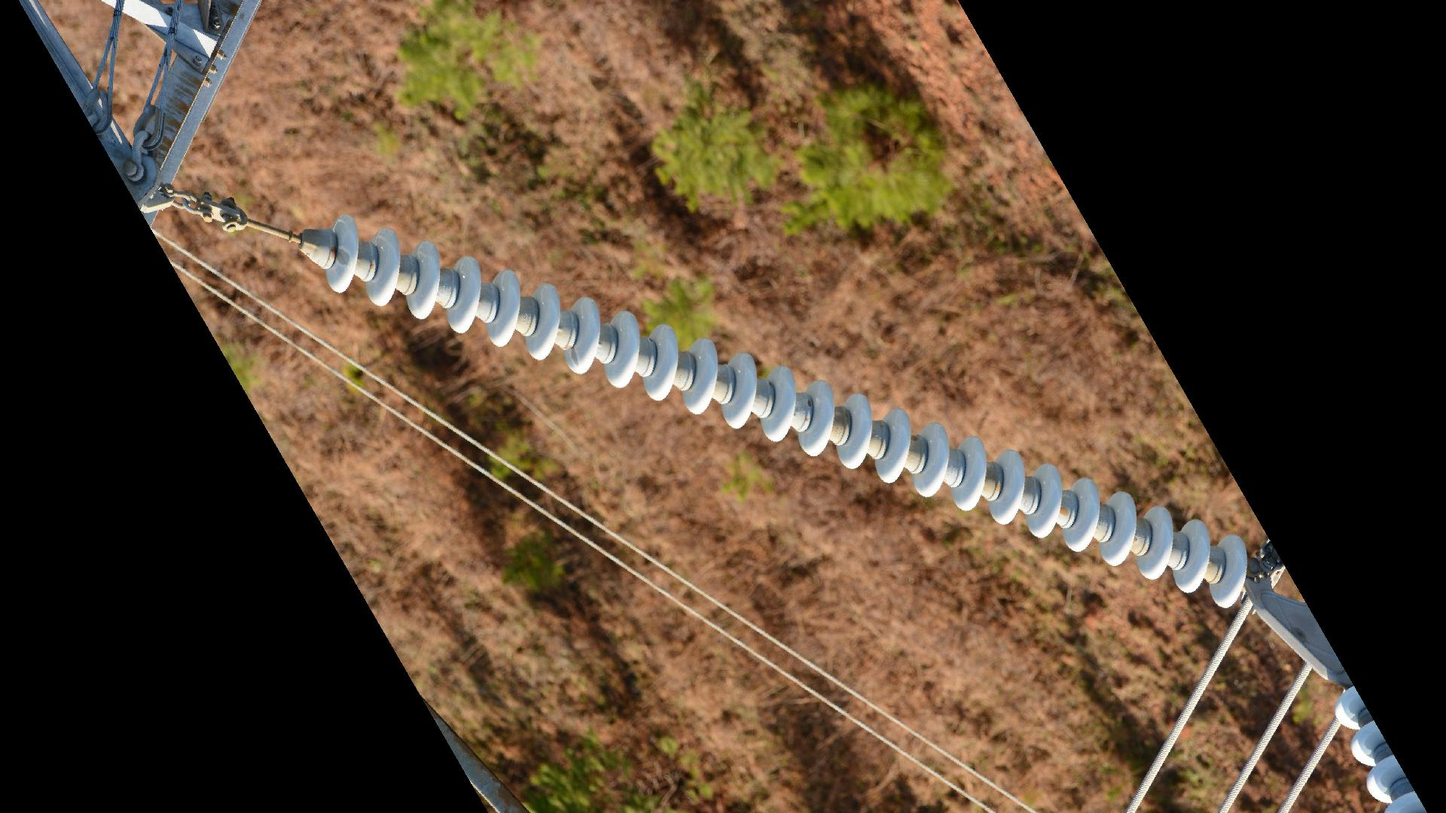insulator: (318, 209, 1254, 615), (1330, 683, 1427, 813)
insulator_flashover: (334, 245, 352, 267)
